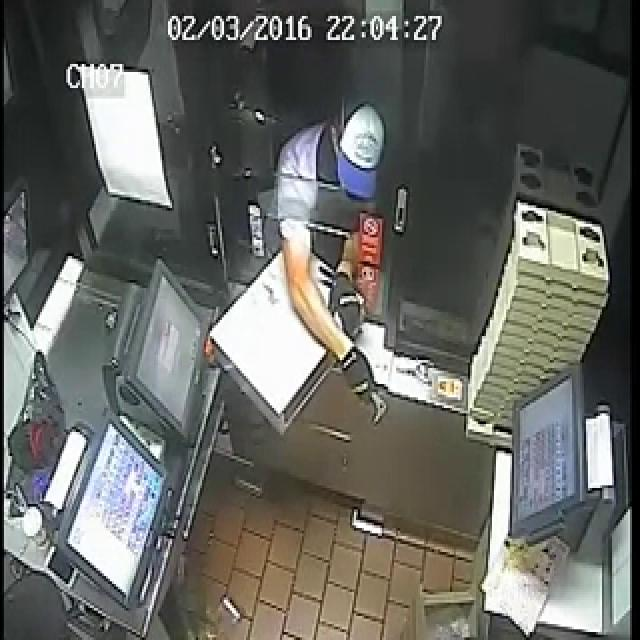burglary: (202, 0, 516, 549)
